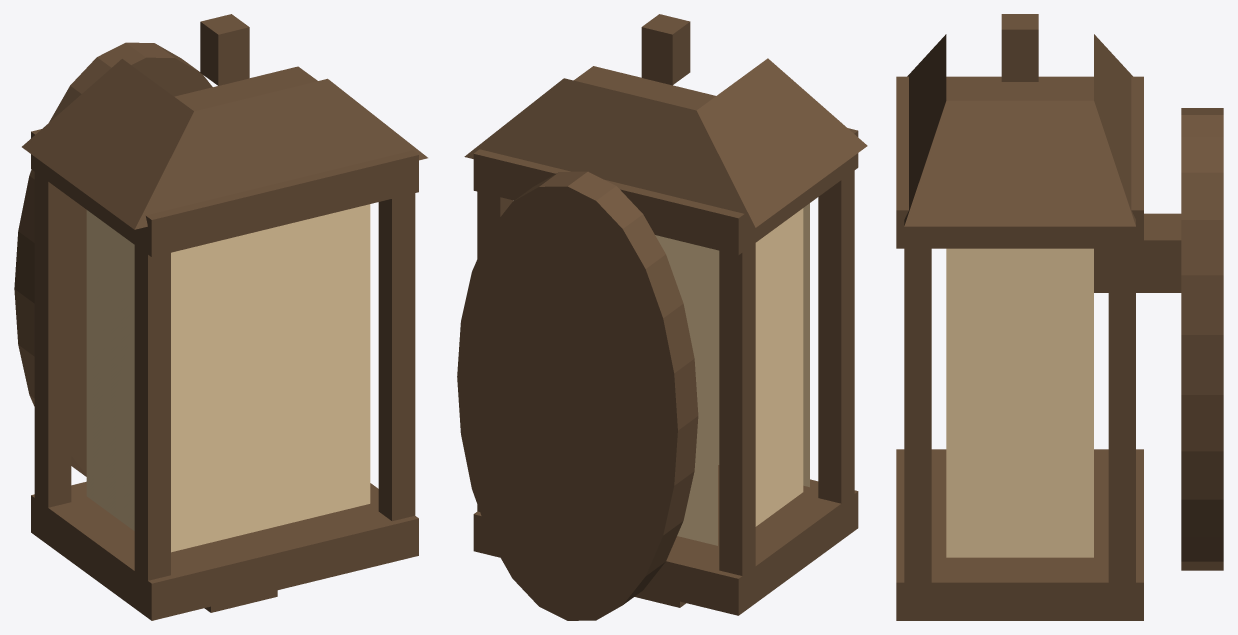
File: porch_lantern.glb
3 views of the same model, side by side, from view 1: azimuth 30°, elevation 25°; view 2: azimuth 150°, elevation 25°; view 3: azimuth 270°, elevation 25° (orthographic). The views are drawn at different scales.
Parts seen in each view (by area): view 1: PorchLantern; view 2: PorchLantern; view 3: PorchLantern.
Boxes of the visible parts, box(x1,y1,x2,y2) form: PorchLantern: box(14, 14, 427, 620); PorchLantern: box(457, 14, 867, 620); PorchLantern: box(896, 14, 1223, 620).
Size of the model in its own units: 0.33 by 0.6075 by 0.3105.
